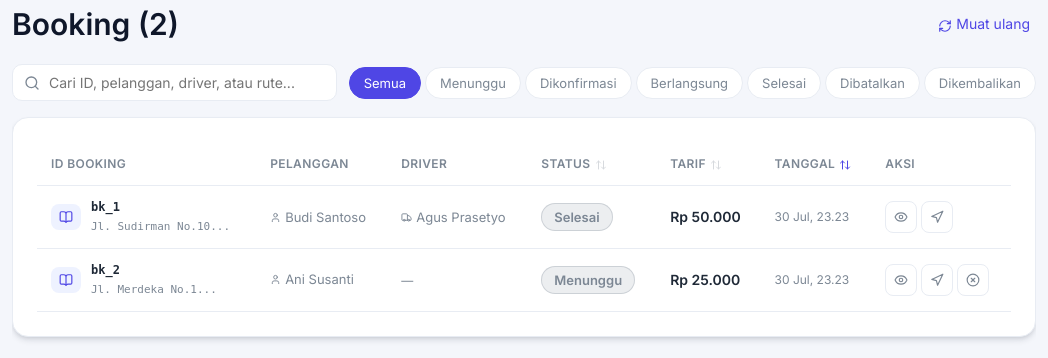
it: Bookings › filters bookings by search query
expect the text "Budi Santoso" is shown: met, box 270,207 -> 373,228
In the field with placeholder "Cari ID, pelanggan, driver, atau rute...": [174, 82] box 12,64 -> 337,101, type "Ani"
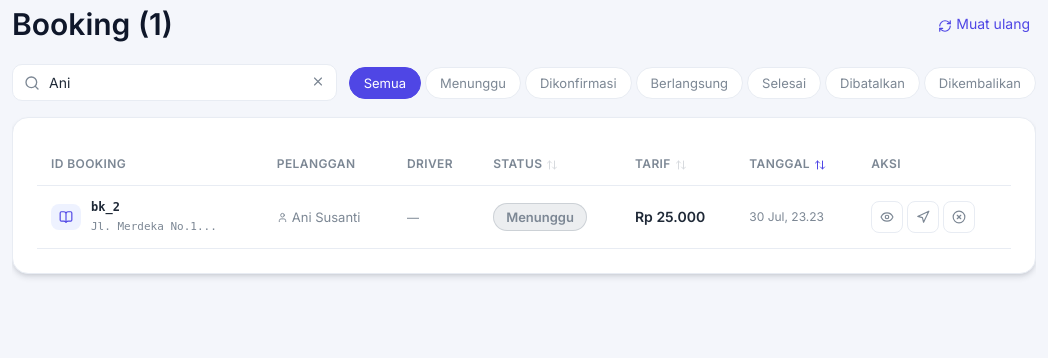
expect the text "Ani Susanti" is shown: met, box 277,209 -> 360,225
expect the text "Budi Santoso" is gone: met
expect the heading "Booking (1)" is shown: met, box 12,0 -> 173,48
